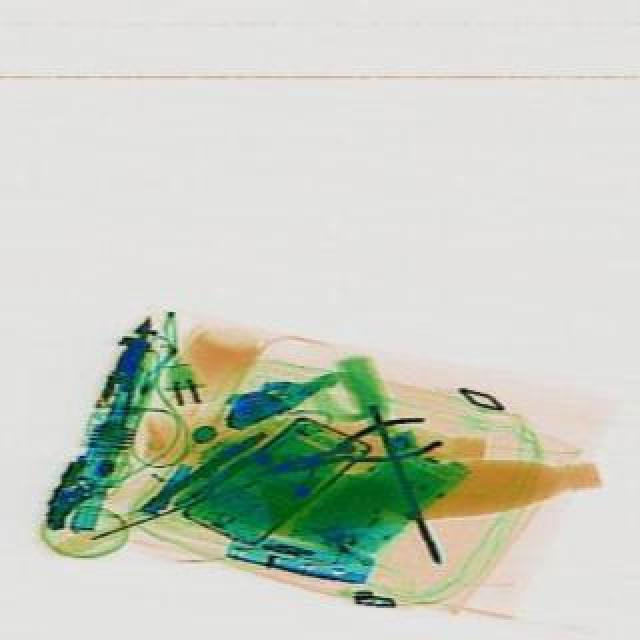wrench: (254, 406, 450, 490)
